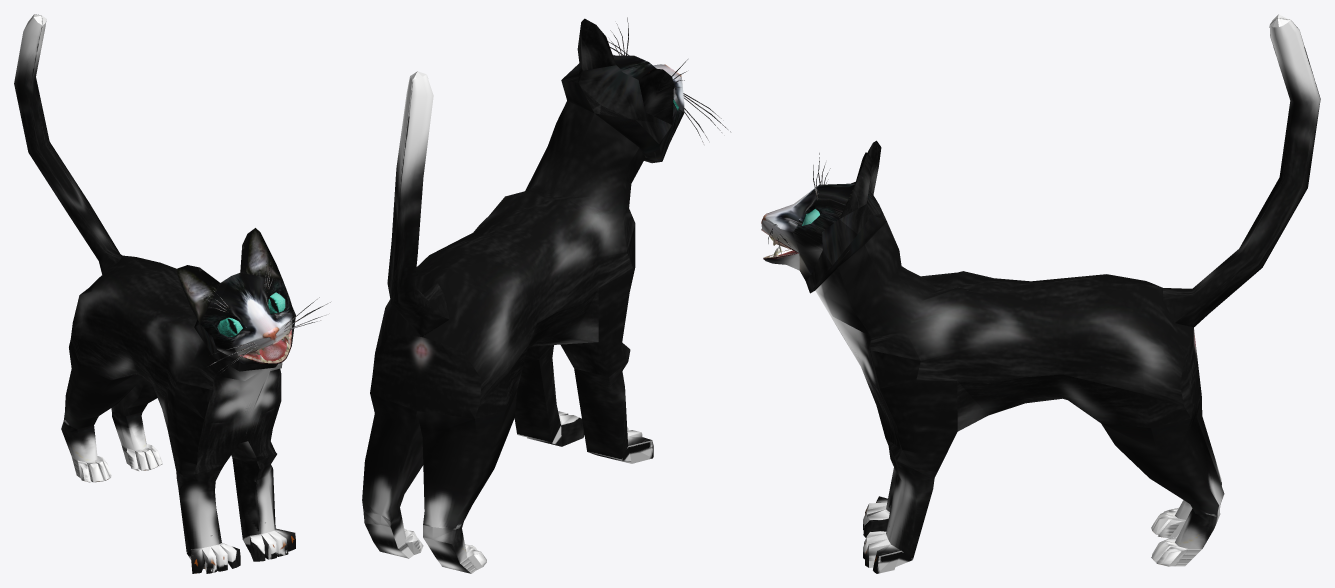
Rendered from Kitty.FBX.
3 views of the same model, side by side, from view 1: azimuth 30°, elevation 25°; view 2: azimuth 150°, elevation 25°; view 3: azimuth 270°, elevation 25° (orthographic). The views are drawn at different scales.
Visible parts, largest first — view 1: Box01, Eyes, Whiskers02; view 2: Box01, Whiskers02; view 3: Box01.
Boxes of the visible parts, left/top/right/bottom form: Box01: left=14, top=14, right=295, bottom=573; Eyes: left=217, top=292, right=285, bottom=336; Whiskers02: left=207, top=261, right=330, bottom=373; Box01: left=362, top=18, right=684, bottom=573; Whiskers02: left=608, top=17, right=730, bottom=142; Box01: left=761, top=14, right=1320, bottom=573.
Bounding box in the file's own units: 50.62 × 160 × 159.
Materials: 2 (2 with a texture image).
